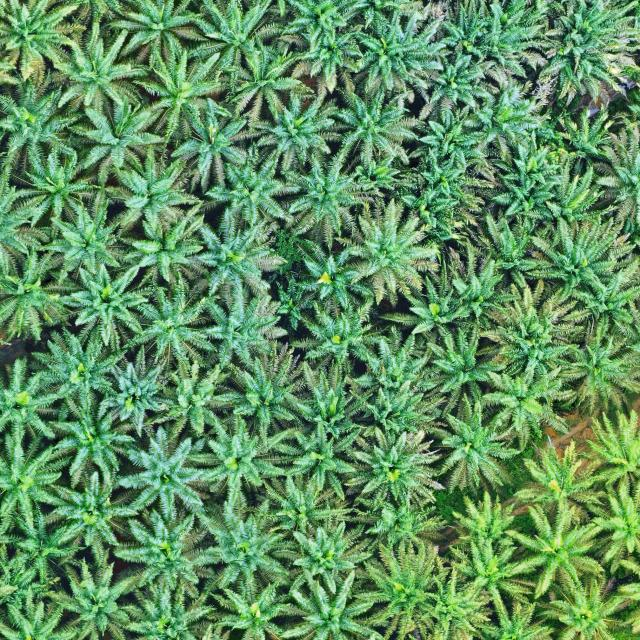Tree: (471, 278, 586, 396), (516, 211, 640, 311), (332, 193, 438, 305), (278, 142, 382, 250), (190, 498, 294, 604), (533, 0, 640, 103), (507, 504, 609, 606), (547, 322, 640, 431), (180, 417, 293, 506), (202, 140, 304, 238), (350, 535, 445, 640), (138, 46, 234, 145), (244, 80, 343, 176), (342, 424, 448, 513), (422, 236, 516, 334), (120, 279, 220, 371), (30, 324, 130, 416), (343, 6, 447, 94), (118, 423, 206, 527), (209, 351, 309, 442), (67, 256, 163, 350), (473, 359, 579, 444), (388, 162, 492, 248), (426, 396, 520, 491), (50, 468, 139, 568), (166, 97, 256, 194), (279, 558, 384, 640), (0, 242, 86, 341), (192, 217, 288, 305), (47, 558, 149, 640), (149, 356, 247, 441), (202, 281, 292, 373), (328, 84, 422, 172), (51, 20, 146, 107), (276, 17, 374, 100), (124, 205, 221, 288), (110, 510, 208, 590), (422, 323, 500, 422), (514, 441, 608, 523), (456, 0, 552, 79), (281, 354, 373, 436), (112, 144, 193, 236), (0, 0, 88, 84), (458, 78, 549, 158), (182, 0, 275, 75), (47, 404, 136, 480), (380, 272, 462, 354), (99, 345, 172, 437), (282, 420, 361, 504), (414, 562, 499, 640), (342, 321, 437, 390), (79, 93, 164, 168), (0, 80, 80, 159), (0, 442, 75, 526), (289, 297, 377, 368), (38, 201, 122, 275), (105, 0, 205, 62), (465, 206, 542, 285), (0, 356, 69, 444), (582, 407, 640, 510), (291, 518, 372, 591), (446, 537, 535, 602), (118, 581, 216, 640), (24, 143, 96, 222), (206, 580, 299, 640), (291, 247, 374, 313), (15, 509, 89, 583), (544, 105, 615, 181), (549, 576, 628, 640), (449, 488, 527, 551), (530, 167, 612, 226), (591, 481, 640, 578), (349, 382, 443, 432), (566, 266, 640, 326), (418, 106, 478, 175), (380, 499, 447, 557), (436, 1, 489, 69), (479, 598, 556, 640), (488, 172, 558, 216)
